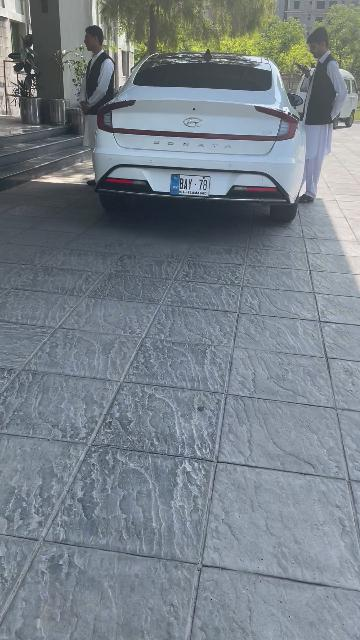plate: (168, 173, 212, 195)
